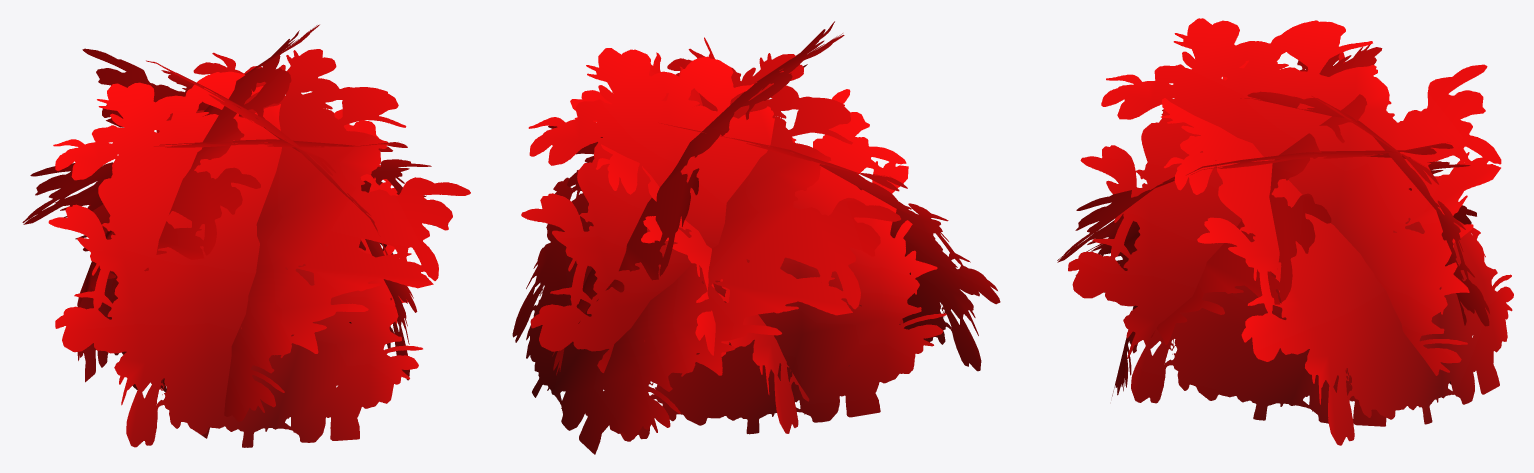
The model's file is Bush.fbx.
The picture shows the model from 3 angles, left to right: view 1: azimuth 30°, elevation 25°; view 2: azimuth 150°, elevation 25°; view 3: azimuth 270°, elevation 25°; orthographic projection. The views are drawn at different scales.
Parts seen in each view (by area): view 1: Bush; view 2: Bush; view 3: Bush.
Boxes of the visible parts, x1,y1,x2,y2 form: Bush: [22, 24, 470, 447]; Bush: [512, 21, 1000, 454]; Bush: [1057, 18, 1513, 445].
Size of the model in its own units: 310 by 221 by 277.
